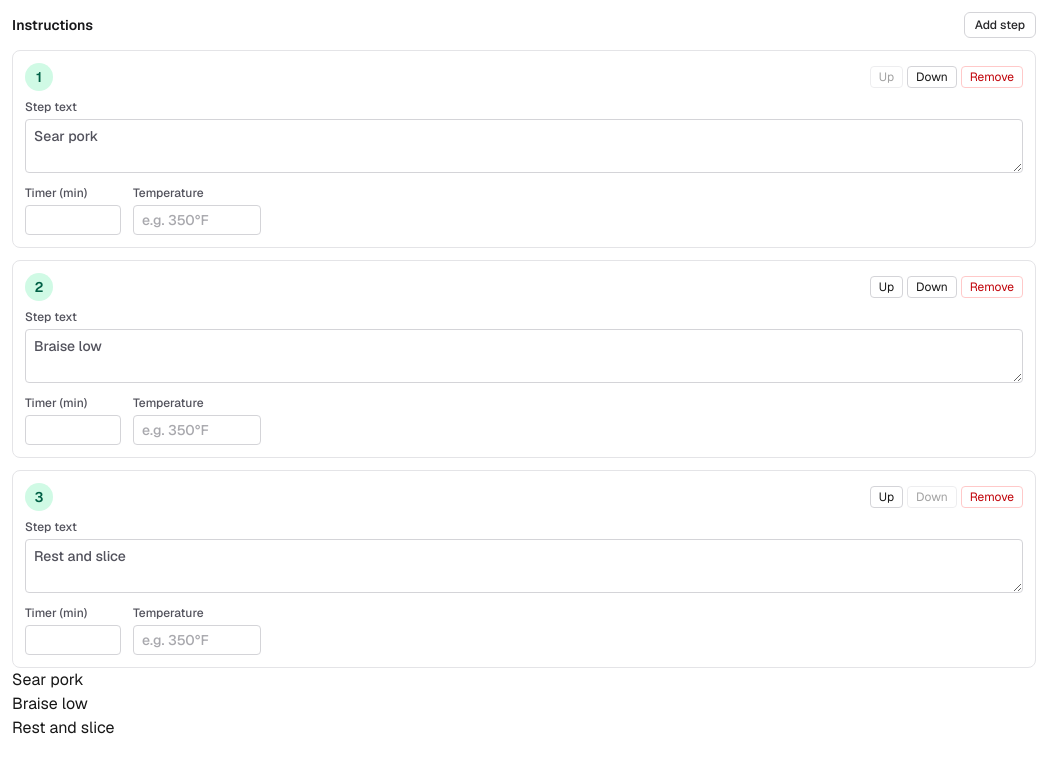
Test: InstructionStepsEditor › reorders steps with Up/Down controls
Check: the list item with test id "mirror-0" reads "Sear pork", box [12, 669, 84, 690]
Check: the list item with test id "mirror-1" reads "Braise low", box [12, 693, 88, 714]
Click the button with test id "instruction-down-0" at [932, 77], box [907, 66, 957, 88]
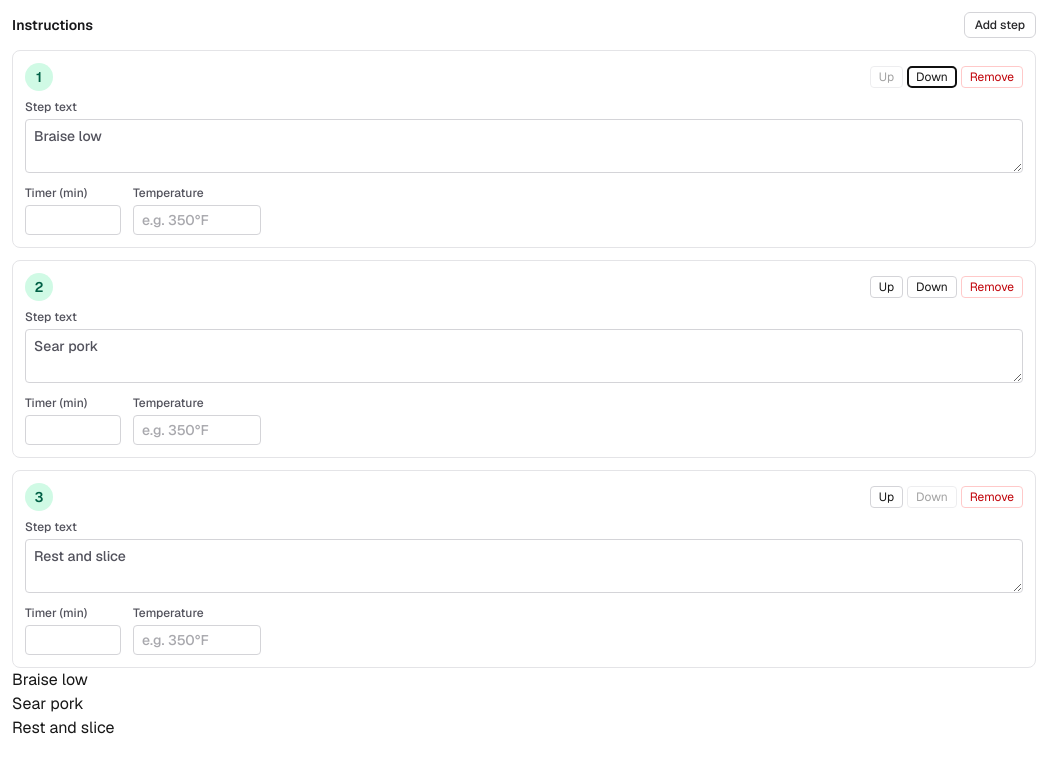
Check: the list item with test id "mirror-2" reads "Rest and slice", box [12, 717, 114, 738]
Check: the list item with test id "mirror-0" reads "Braise low", box [12, 669, 88, 690]
Check: the list item with test id "mirror-1" reads "Sear pork", box [12, 693, 84, 714]
Click the button with test id "instruction-up-2" at [886, 497], box [870, 486, 903, 508]
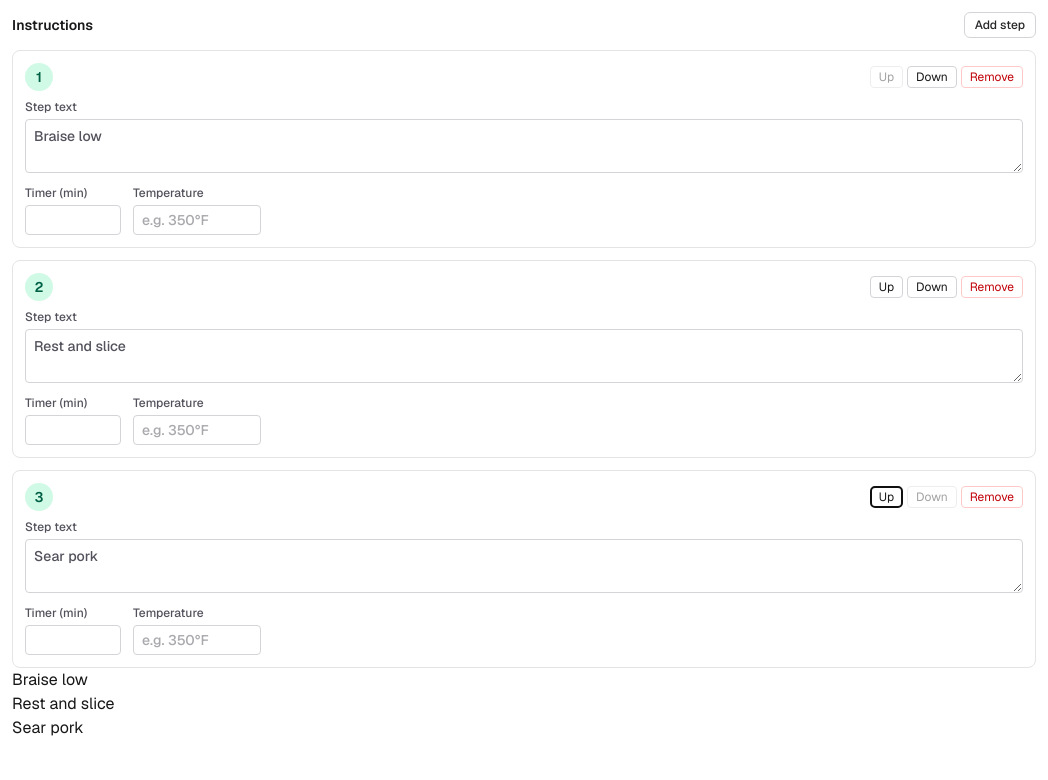
Check: the list item with test id "mirror-1" reads "Rest and slice", box [12, 693, 114, 714]
Check: the list item with test id "mirror-2" reads "Sear pork", box [12, 717, 84, 738]
